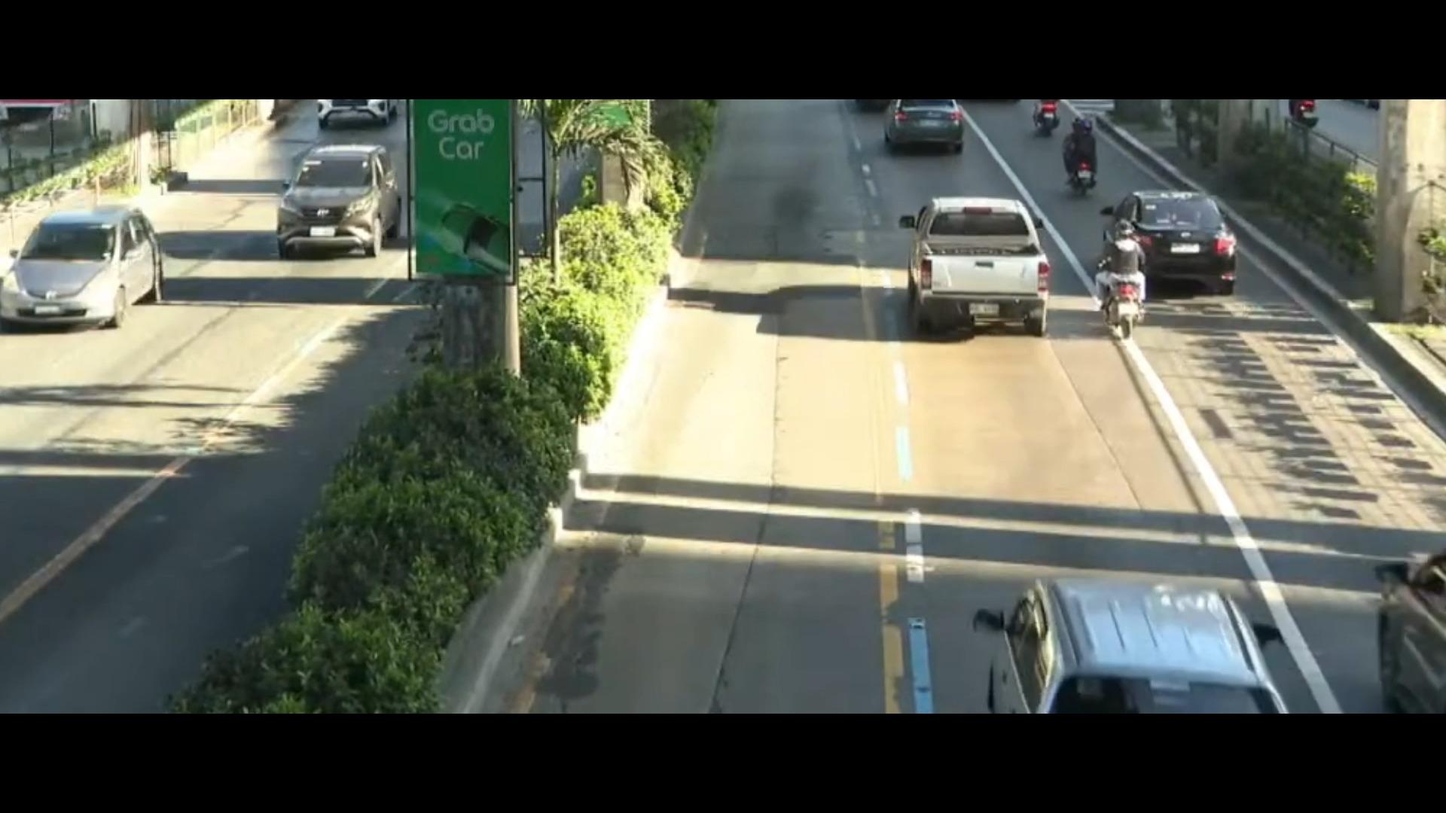Motorcycle: (1100, 213, 1165, 352), (1063, 111, 1106, 194), (1033, 107, 1067, 129)
Pickup: (895, 170, 1051, 360)
SUV: (940, 533, 1290, 721), (0, 206, 168, 343), (256, 136, 405, 283)
Sedan: (1112, 162, 1256, 276), (859, 99, 983, 151)
